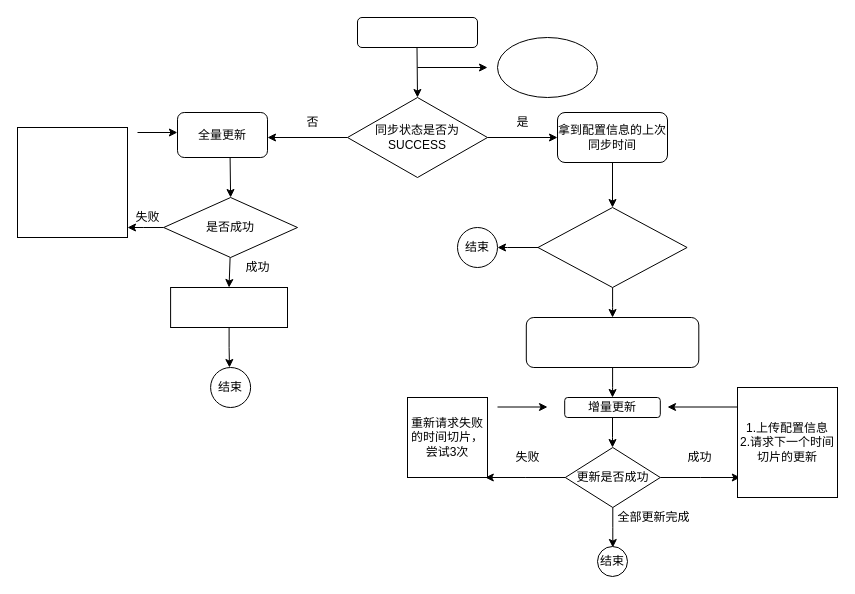
This 855x594 diagram has some shape labels left out. The box of each missing label's shape, as (x1, y1, x2, y2) in pixels:
app初始化: (356, 16, 478, 48)
上传同步订单的 配置信息: (170, 286, 288, 328)
上次同步距离现在的 间隔是否大于？: (537, 206, 687, 288)
拿当前页数更新， 3次之后都失败 则停止: (16, 126, 128, 238)
时间切片 （第一个切片的 end_modified 往后加30分钟 ）: (525, 316, 699, 368)
获取同步配置信息: (496, 36, 598, 98)
